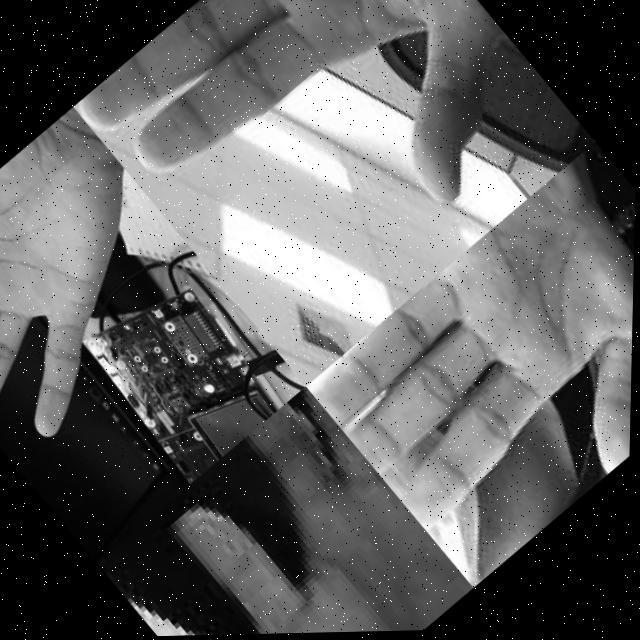no-gloves: (68, 0, 578, 368), (303, 160, 637, 592), (0, 107, 230, 473), (150, 384, 479, 638)
